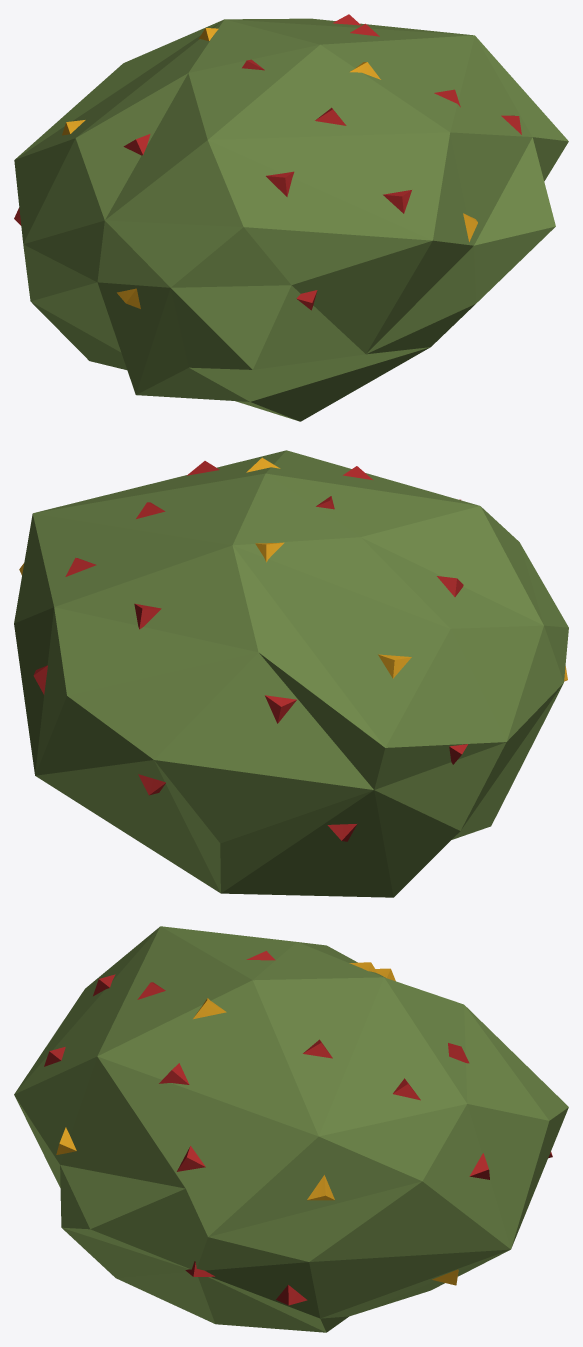
File: SM_Bush_4.FBX
The picture shows the model from 3 angles, top to bottom: view 1: azimuth 30°, elevation 25°; view 2: azimuth 150°, elevation 25°; view 3: azimuth 270°, elevation 25°; orthographic projection. The views are drawn at different scales.
Parts seen in each view (by area): view 1: SM_Bush_4; view 2: SM_Bush_4; view 3: SM_Bush_4.
Boxes of the visible parts, bbox=[...] form: SM_Bush_4: bbox=[14, 14, 568, 421]; SM_Bush_4: bbox=[14, 450, 568, 897]; SM_Bush_4: bbox=[14, 926, 568, 1332].
Size of what is drawn, in the model's own units: 238 by 226 by 157.
